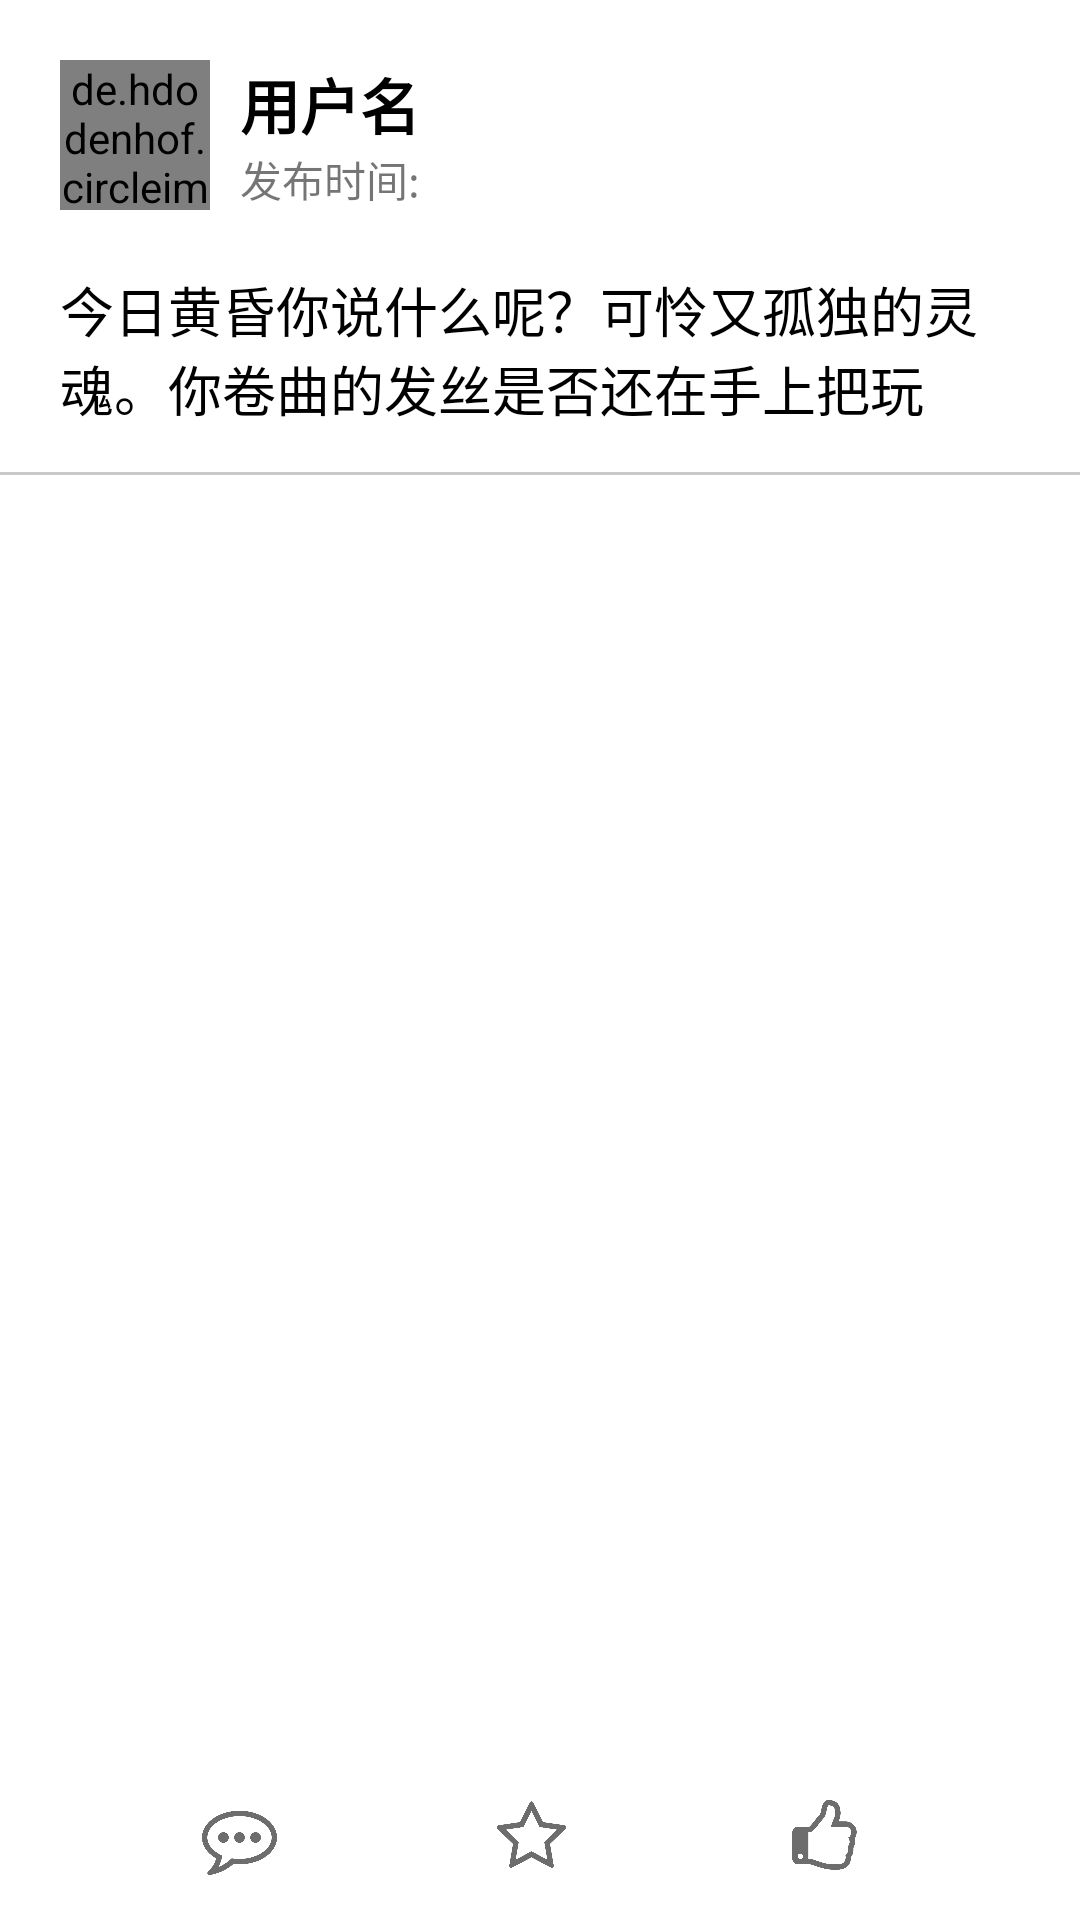

Icon click points for this 1080px×1920px phone screenshot, format [x,y]:
bookmark: [531,1834]
comment: [239,1843]
like: [824,1835]
